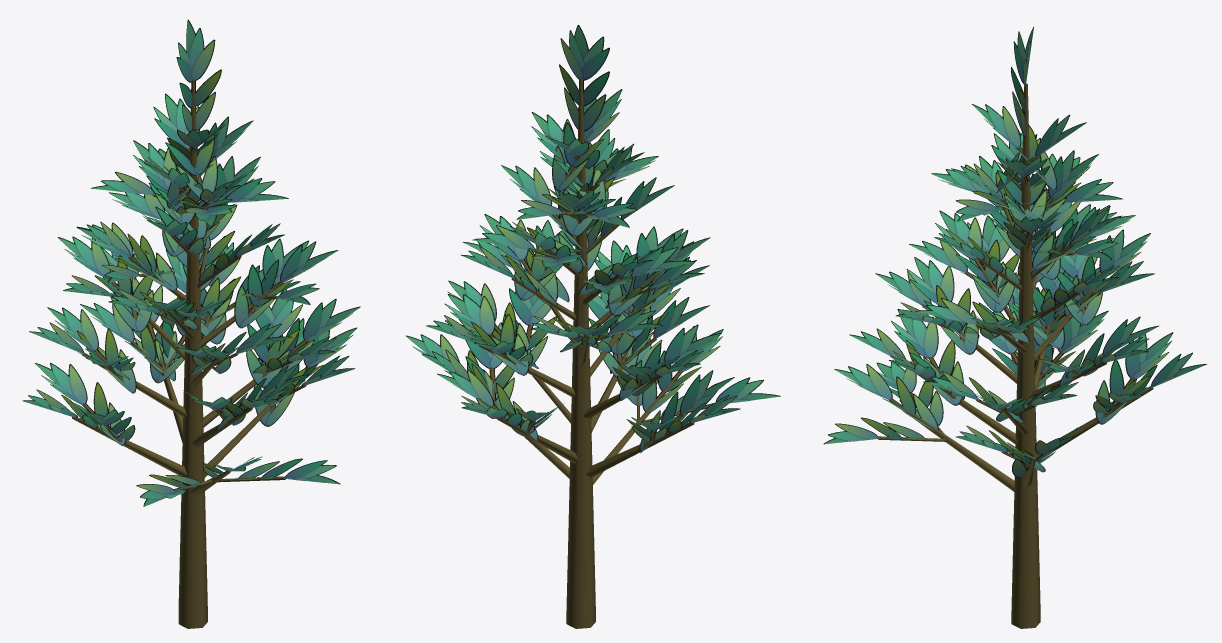
Rendered from poplar-green3.gltf.
3 renders of one model, left to right at view 1: azimuth 30°, elevation 25°; view 2: azimuth 150°, elevation 25°; view 3: azimuth 270°, elevation 25°, orthographic.
Parts seen in each view (by area): view 1: leaves, bark; view 2: leaves, bark; view 3: leaves, bark.
Boxes of the visible parts, x1,y1,x2,y2 form: leaves: (22,19,360,506); bark: (72,79,309,628); leaves: (406,25,780,453); bark: (478,78,712,628); leaves: (823,27,1206,477); bark: (877,83,1153,628).
Bounding box in the file's own units: 2.08 × 3.57 × 2.15.
2 materials, 1 textured.
